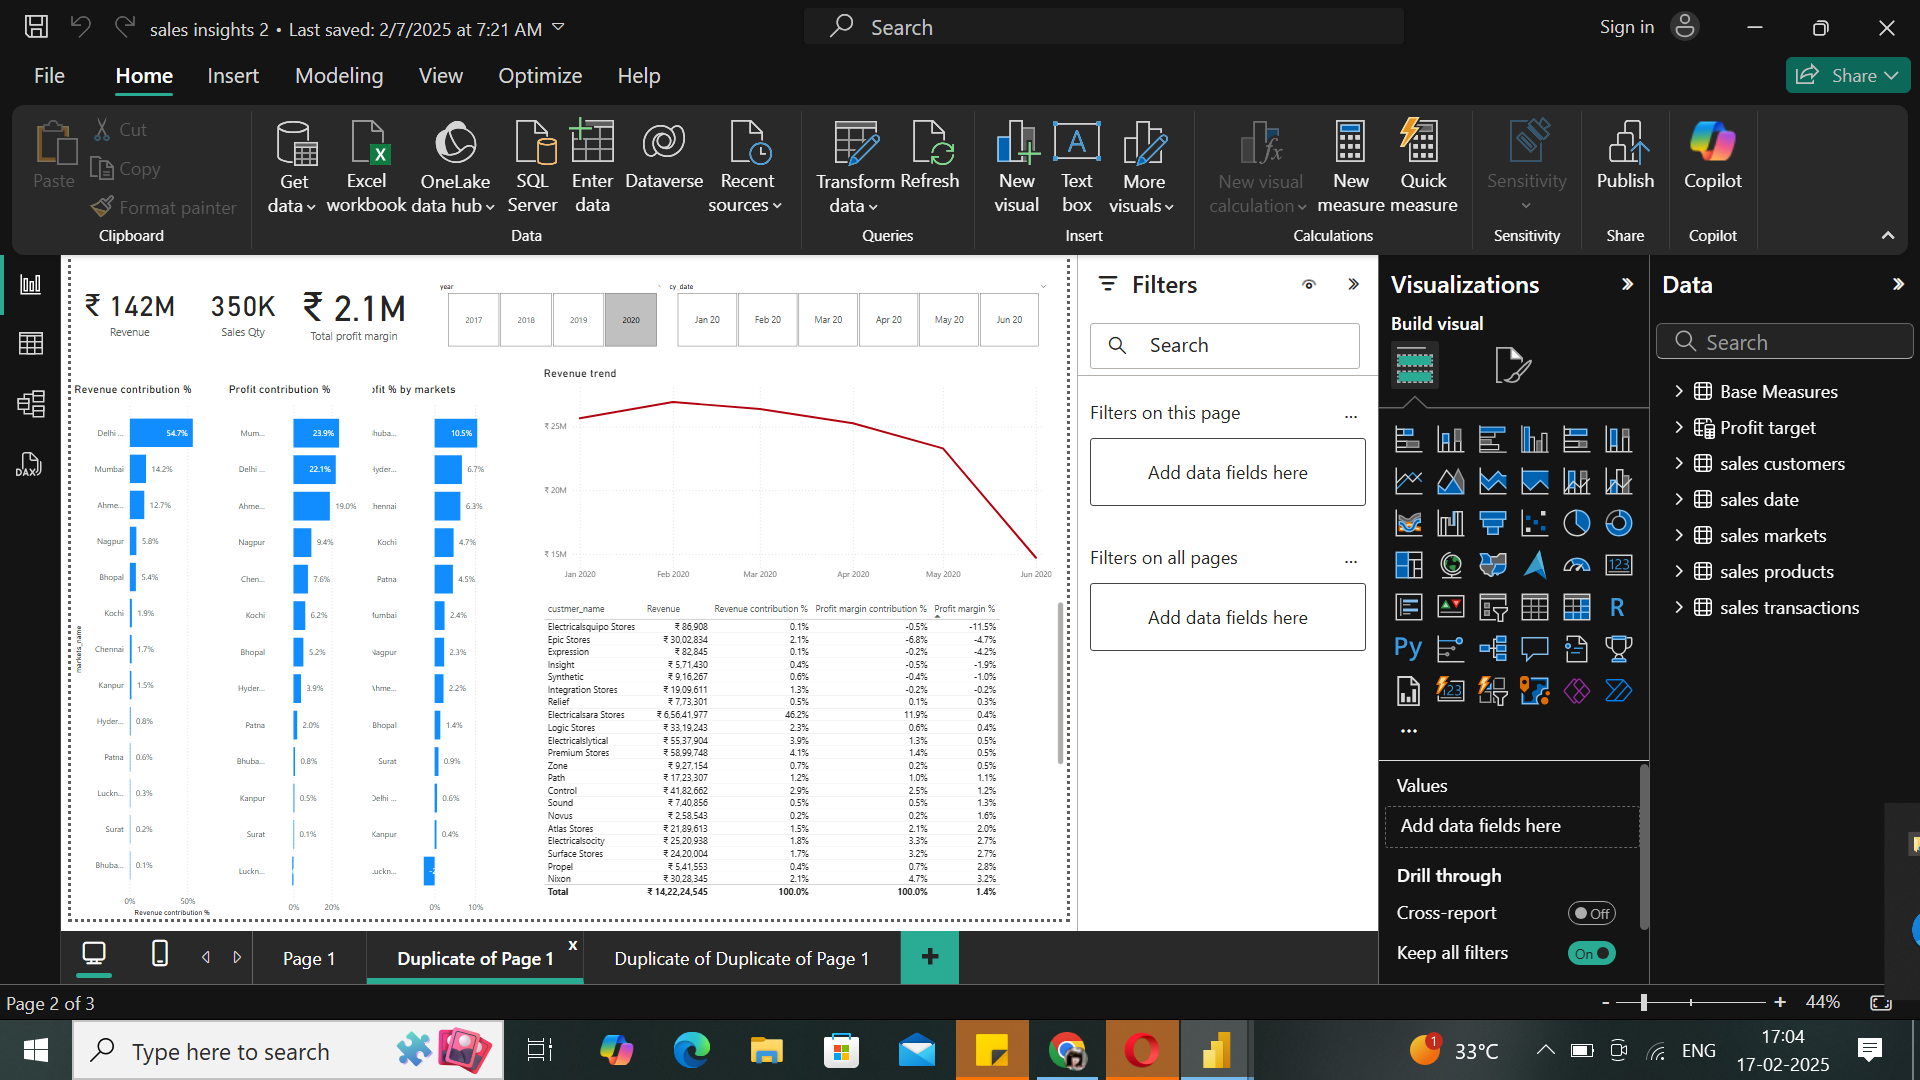

This screenshot's page, from the dashboard's own definition file:
{"tool":"powerbi","page":{"name":"Duplicate of Page 1","canvas":[1500,1000],"ordinal":1},"visuals":[{"type":"card","fields":{"Values":["Base Measures.Revenue"]},"box":[0,0,176.2,167.2],"z":0},{"type":"card","fields":{"Values":["Base Measures.Sales Qty"]},"box":[176.2,0,164.9,167.2],"z":1000},{"type":"barChart","title":"Profit % by markets","fields":{"Y":["Base Measures.Profit margin %"],"Category":["sales markets.markets_name"]},"box":[427,192,234.9,808.8],"z":2000},{"type":"barChart","title":"Profit contribution %","fields":{"Y":["Base Measures.Profit margin contribution %"],"Category":["sales markets.markets_name"]},"box":[232.7,192,221.4,808.8],"z":3000},{"type":"slicer","fields":{"Values":["sales date.year"]},"box":[542.2,36.1,363.7,108.4],"z":4000},{"type":"slicer","fields":{"Values":["sales date.cy_date"]},"box":[887.8,36.1,594.1,108.4],"z":5000},{"type":"tableEx","title":"Top 5 costumer","fields":{"Values":["sales customers.custmer_name","Base Measures.Revenue","Base Measures.Revenue contribution %","Base Measures.Profit margin contribution %","Base Measures.Profit margin %"]},"box":[707.1,517.3,792.9,454.1],"z":6000},{"type":"lineChart","title":"Revenue trend","fields":{"Y":["Base Measures.Revenue"],"Category":["sales date.cy_date.Variation.Date Hierarchy.Year","sales date.cy_date.Variation.Date Hierarchy.Quarter","sales date.cy_date.Variation.Date Hierarchy.Month","sales date.cy_date.Variation.Date Hierarchy.Day"]},"box":[707.1,167.2,774.9,332.1],"z":8000},{"type":"card","fields":{"Values":["Base Measures.Total profit margin"]},"box":[309.5,0,232.7,167.2],"z":9000},{"type":"barChart","title":"Revenue contribution % ","fields":{"Category":["sales markets.markets_name"],"Y":["Base Measures.Revenue contribution %"]},"box":[0,192,232.7,808.8],"z":10000}]}

Visuals, with their boxes on the page's 1500x1000 design canvas (x1, y1, x2, y2). These are canvas units, not pixel positions in the 1920x1080 screenshot, which may show the page scaled, cropped or inside an application window:
card - Base Measures.Revenue: crop(0, 0, 176, 167)
card - Base Measures.Sales Qty: crop(176, 0, 341, 167)
"Profit % by markets" barChart: crop(427, 192, 662, 1001)
"Profit contribution %" barChart: crop(233, 192, 454, 1001)
slicer - sales date.year: crop(542, 36, 906, 144)
slicer - sales date.cy_date: crop(888, 36, 1482, 144)
"Top 5 costumer" tableEx: crop(707, 517, 1500, 971)
"Revenue trend" lineChart: crop(707, 167, 1482, 499)
card - Base Measures.Total profit margin: crop(310, 0, 542, 167)
"Revenue contribution % " barChart: crop(0, 192, 233, 1001)
